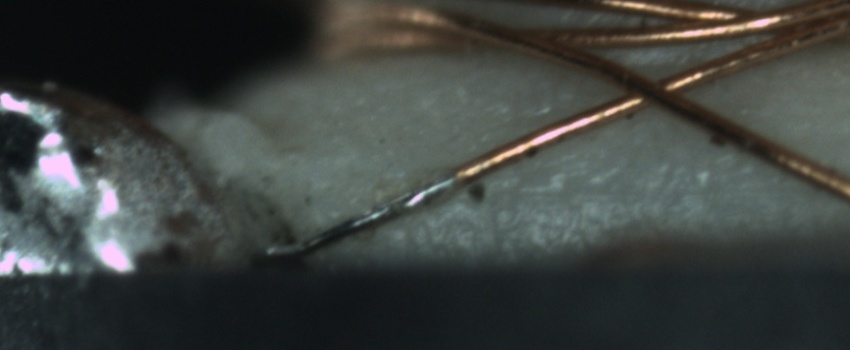CL: (608, 62, 705, 116)
DL: (511, 158, 804, 220)
TS: (267, 176, 458, 257)
TTCW: (251, 148, 505, 260)
